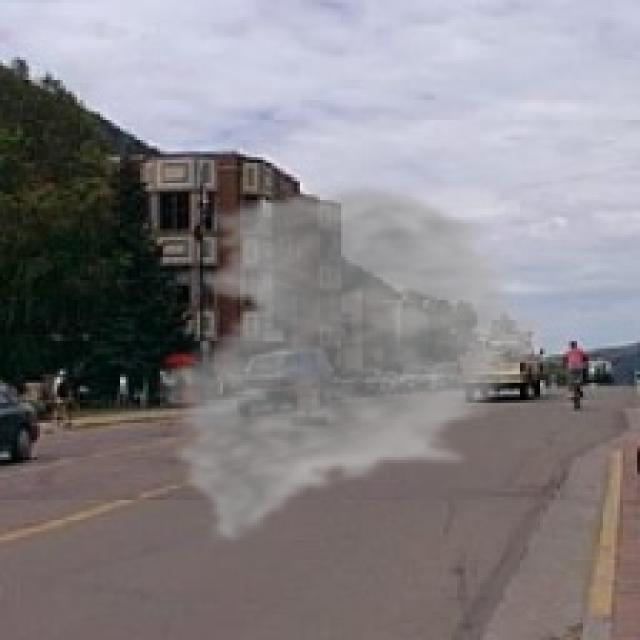Smoke: (145, 180, 560, 546)
